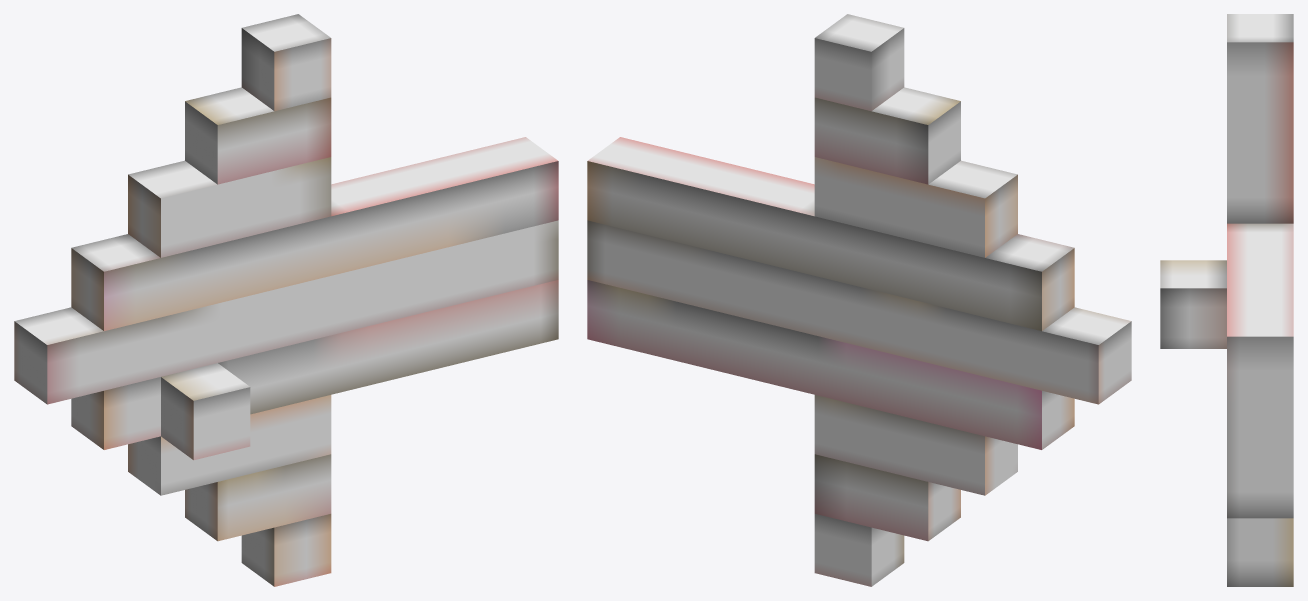
Rendered from Matrix_16.dae.
3 views of the same model, side by side, from view 1: azimuth 30°, elevation 25°; view 2: azimuth 150°, elevation 25°; view 3: azimuth 270°, elevation 25° (orthographic).
Visible parts, largest first — view 1: Matrix_16; view 2: Matrix_16; view 3: Matrix_16.
Boxes of the visible parts, x1,y1,x2,y2 form: Matrix_16: (14,14,558,586); Matrix_16: (587,14,1131,586); Matrix_16: (1160,14,1293,586).
Bounding box in the file's own units: 9 × 9 × 2.
